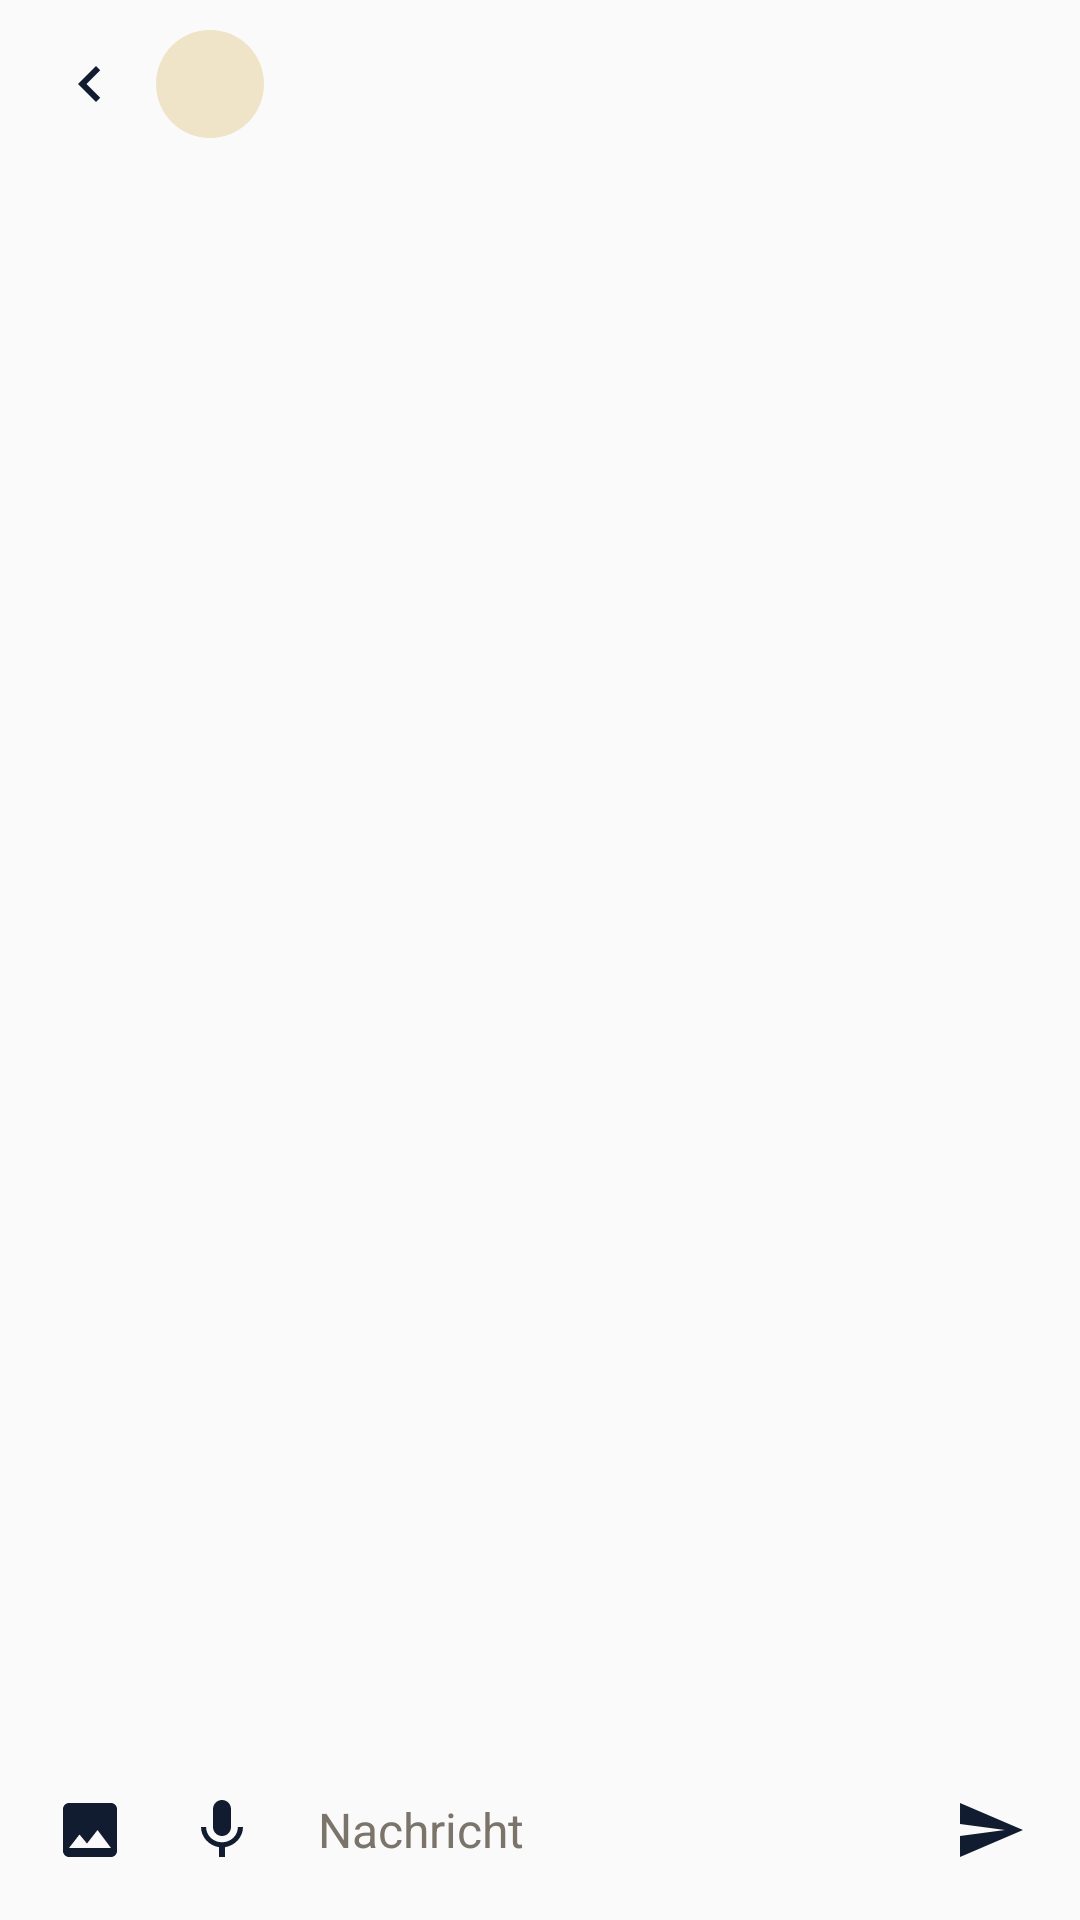

Named icons in this screenshot (1080x1920) and their centers, (x=x, y=y):
Senden: (x=991, y=1830)
Zurück: (x=89, y=84)
